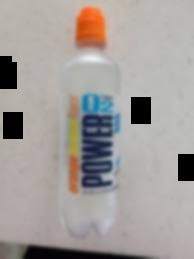powerO2_orange: (59, 2, 121, 240)
